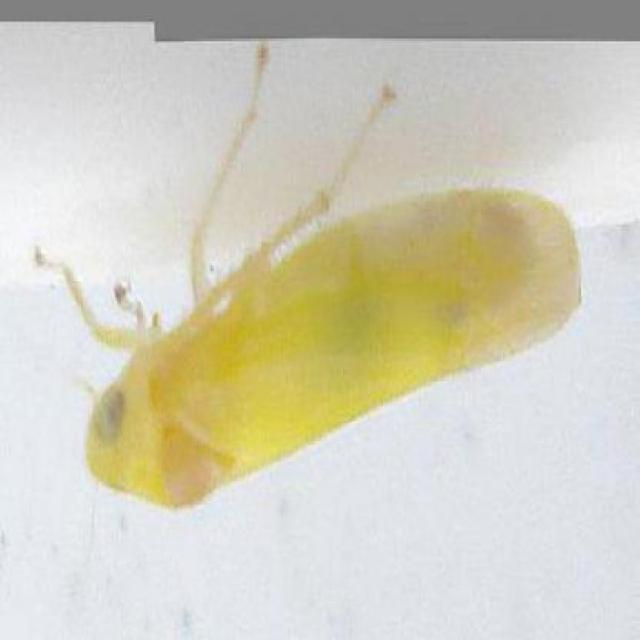green-leafhopper: (86, 163, 580, 503)
